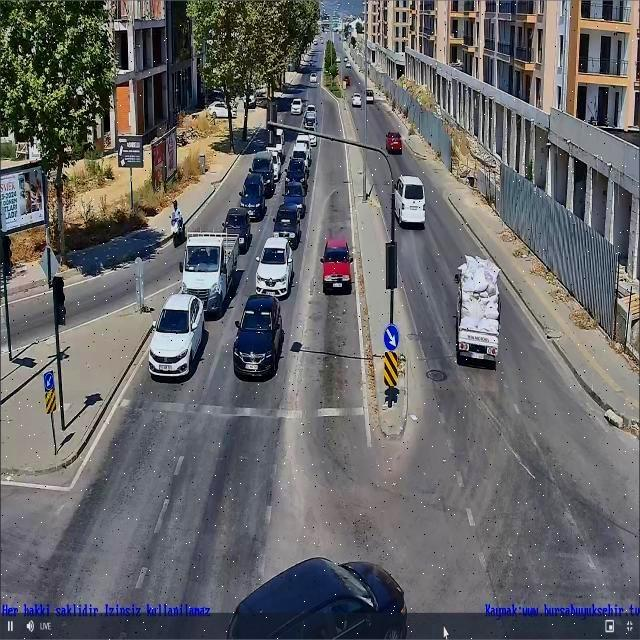Car: (220, 551, 403, 640), (148, 290, 207, 380), (232, 296, 284, 379), (255, 238, 292, 295), (323, 238, 350, 291), (240, 172, 264, 220), (223, 208, 249, 251), (271, 204, 300, 242), (250, 152, 274, 193), (284, 181, 305, 217), (285, 159, 306, 188), (386, 130, 403, 153), (291, 98, 303, 114), (352, 91, 361, 107)
Truck: (457, 255, 500, 363)
Van: (396, 176, 428, 223)
